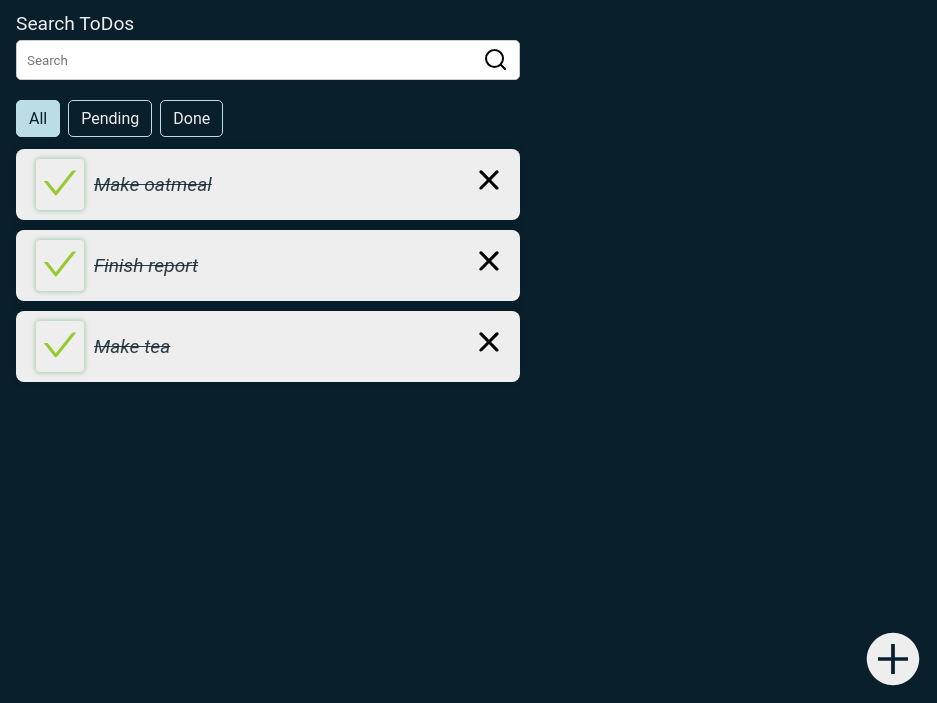
Test: App › shows status-specific feedback when the Pending tab has no tasks
Click the tab "Pending": [110, 118] box [68,100,152,137]
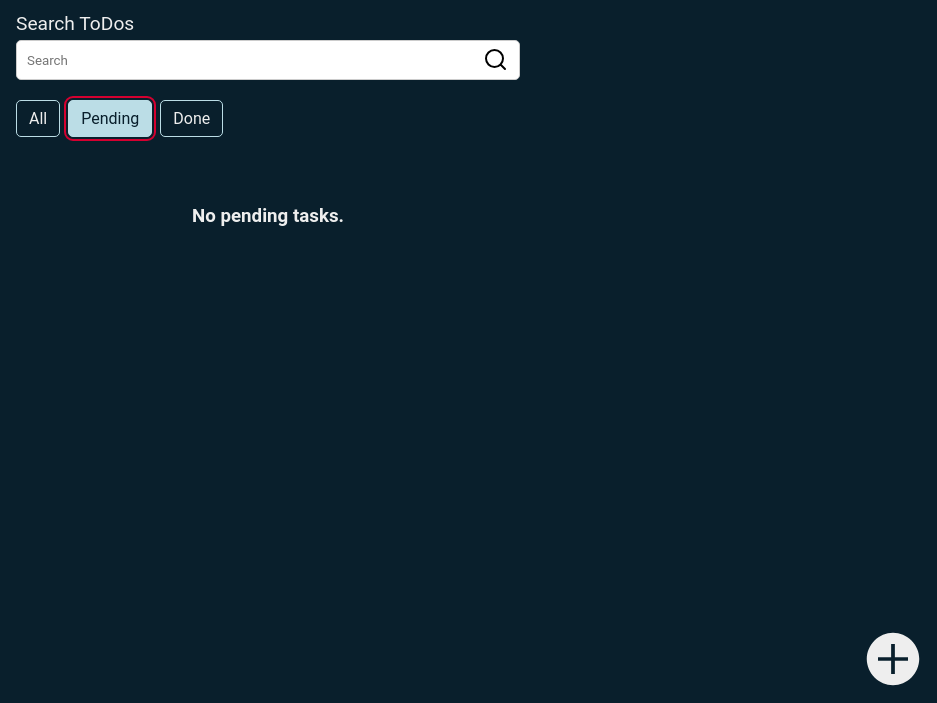
Expected: the message reads "No pending tasks.", [192,205,344,227]
